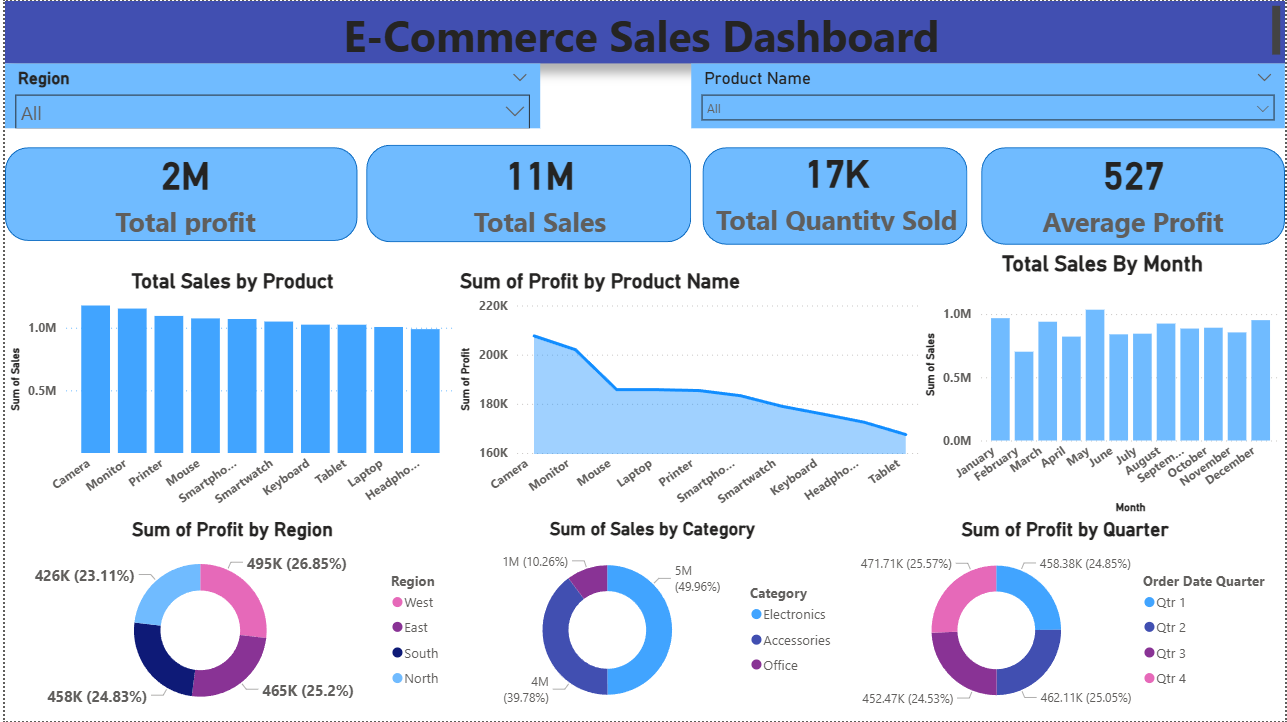

The page's visual inventory and layout, read from the dashboard file:
{"tool":"powerbi","page":{"name":"Page 1","canvas":[1280,720],"ordinal":0},"visuals":[{"type":"textbox","box":[0,0,1280,62.5],"z":0},{"type":"shape","box":[0,146.2,352.5,93.8],"z":1000},{"type":"shape","box":[361.2,143.8,325,97.5],"z":2000},{"type":"shape","box":[697.5,146.2,265,97.5],"z":3000},{"type":"shape","box":[976.2,146.2,303.8,97.5],"z":4000},{"type":"card","fields":{"Values":["Sum(ecommerce_sales_data__2.Profit)"]},"box":[37.5,138.8,286.2,100],"z":5000},{"type":"card","fields":{"Values":["Sum(ecommerce_sales_data__2.Quantity)"]},"box":[701.2,138.8,261.2,96.2],"z":6000},{"type":"card","fields":{"Values":["Sum(ecommerce_sales_data__2.Sales)"]},"box":[383.8,138.8,302.5,101.2],"z":7000},{"type":"card","fields":{"Values":["Avg(ecommerce_sales_data__2.Profit)"]},"box":[1006.4,136.8,243.8,105.7],"z":8000},{"type":"clusteredColumnChart","title":"Total Sales by Product","fields":{"Category":["ecommerce_sales_data__2.Product Name"],"Y":["Sum(ecommerce_sales_data__2.Sales)"]},"box":[0,267.5,455,267.5],"z":9000},{"type":"stackedAreaChart","fields":{"Category":["ecommerce_sales_data__2.Product Name"],"Y":["Sum(ecommerce_sales_data__2.Profit)"]},"box":[450,267.5,472.5,267.5],"z":10000},{"type":"columnChart","title":"Total Sales By Month","fields":{"Category":["ecommerce_sales_data__2.Order Date.Variation.Date Hierarchy.Month"],"Y":["Sum(ecommerce_sales_data__2.Sales)"]},"box":[915,250,365,267.5],"z":11000},{"type":"donutChart","fields":{"Category":["ecommerce_sales_data__2.Region"],"Y":["Sum(ecommerce_sales_data__2.Profit)"]},"box":[0,517.5,455,202.5],"z":12000},{"type":"donutChart","fields":{"Category":["ecommerce_sales_data__2.Category"],"Y":["Sum(ecommerce_sales_data__2.Sales)"]},"box":[455,517.5,385,202.5],"z":13000},{"type":"donutChart","fields":{"Category":["ecommerce_sales_data__2.Order Date.Variation.Date Hierarchy.Quarter"],"Y":["Sum(ecommerce_sales_data__2.Profit)"]},"box":[840,517.5,440,202.5],"z":14000},{"type":"slicer","fields":{"Values":["ecommerce_sales_data__2.Product Name"]},"box":[686.7,62.2,593.4,64.7],"z":15000},{"type":"slicer","fields":{"Values":["ecommerce_sales_data__2.Region"]},"box":[0,62.2,534.9,64.7],"z":16000}]}

Visuals, with their boxes in screenshot pixels (x1, y1, x2, y2), scaled from the page's 1280x720 canvas onto the 1287x722 screenshot:
textbox: bbox=(0, 0, 1286, 63)
shape: bbox=(0, 147, 354, 241)
shape: bbox=(363, 144, 690, 242)
shape: bbox=(701, 147, 968, 244)
shape: bbox=(982, 147, 1286, 244)
card - Sum(ecommerce_sales_data__2.Profit): bbox=(38, 139, 325, 239)
card - Sum(ecommerce_sales_data__2.Quantity): bbox=(705, 139, 968, 236)
card - Sum(ecommerce_sales_data__2.Sales): bbox=(386, 139, 690, 241)
card - Avg(ecommerce_sales_data__2.Profit): bbox=(1012, 137, 1257, 243)
"Total Sales by Product" clusteredColumnChart: bbox=(0, 268, 457, 536)
stackedAreaChart - ecommerce_sales_data__2.Product Name x Sum(ecommerce_sales_data__2.Profit): bbox=(452, 268, 928, 536)
"Total Sales By Month" columnChart: bbox=(920, 251, 1286, 519)
donutChart - ecommerce_sales_data__2.Region x Sum(ecommerce_sales_data__2.Profit): bbox=(0, 519, 457, 721)
donutChart - ecommerce_sales_data__2.Category x Sum(ecommerce_sales_data__2.Sales): bbox=(457, 519, 845, 721)
donutChart - ecommerce_sales_data__2.Order Date.Variation.Date Hierarchy.Quarter x Sum(ecommerce_sales_data__2.Profit): bbox=(845, 519, 1286, 721)
slicer - ecommerce_sales_data__2.Product Name: bbox=(690, 62, 1286, 127)
slicer - ecommerce_sales_data__2.Region: bbox=(0, 62, 538, 127)
